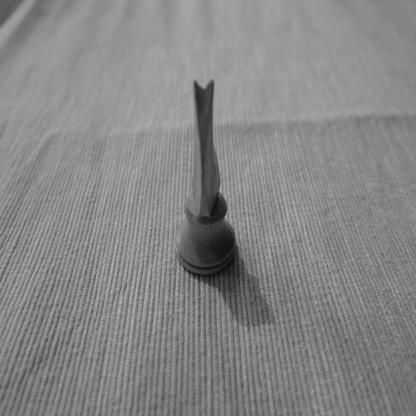white-knight: (174, 76, 236, 278)
